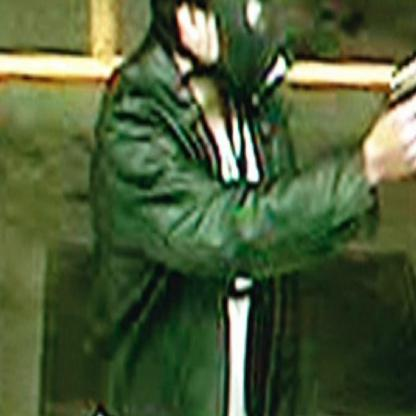gun: (380, 0, 416, 142)
